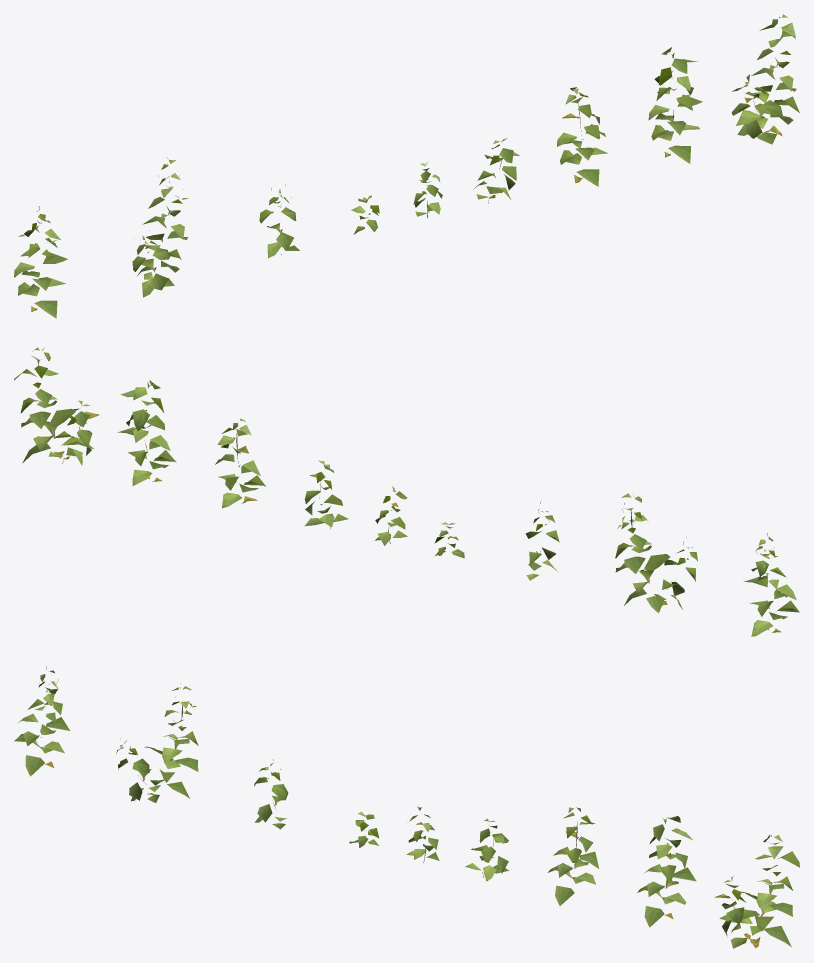
Rendered from shrub_01_lod1.gltf.
The picture shows the model from 3 angles, top to bottom: view 1: azimuth 30°, elevation 25°; view 2: azimuth 150°, elevation 25°; view 3: azimuth 330°, elevation 25°; orthographic projection. The views are drawn at different scales.
Visible parts, largest first — view 1: shrub_01_lod1; view 2: shrub_01_lod1; view 3: shrub_01_lod1.
Boxes of the visible parts, x1,y1,x2,y2 form: shrub_01_lod1: (14,14,799,318); shrub_01_lod1: (14,347,799,636); shrub_01_lod1: (14,666,799,948).
Size of the model in its own units: 2.59 by 0.3835 by 0.2076.
Materials: 1 (1 with a texture image).
